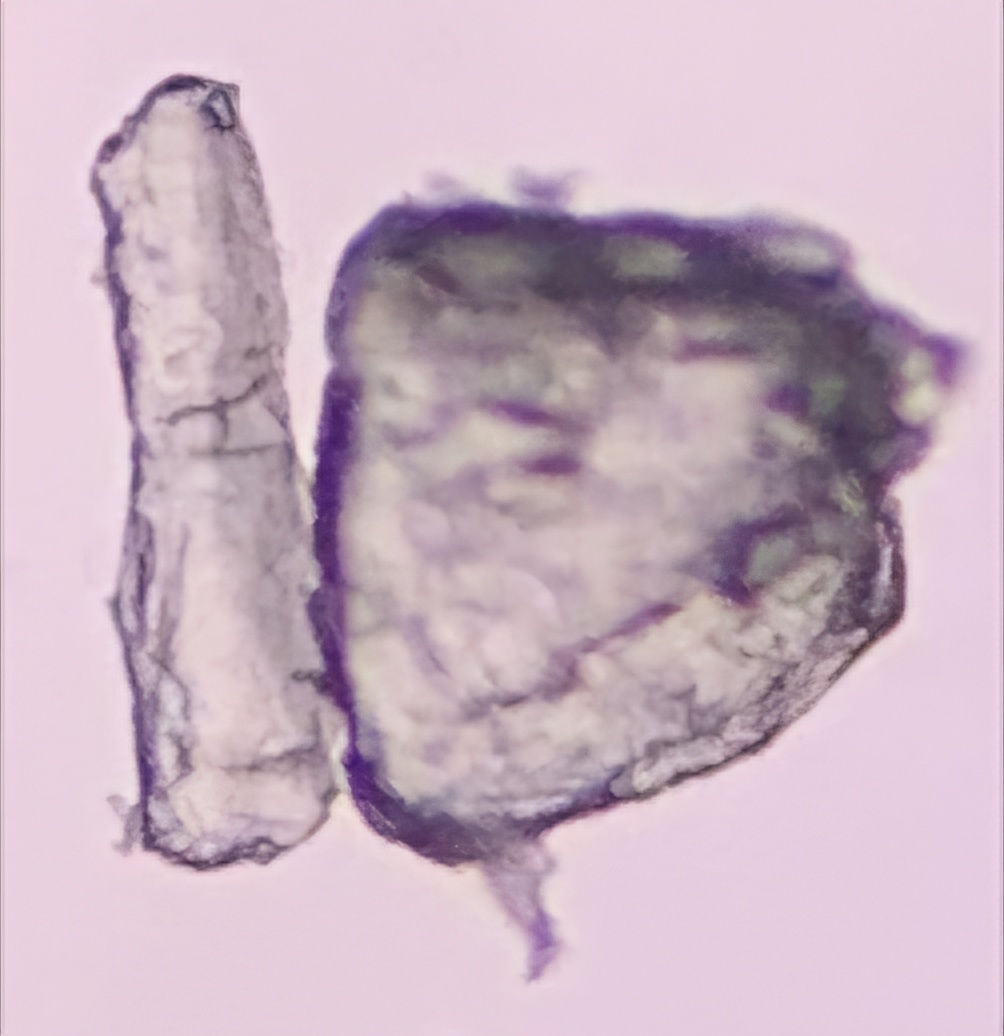microplastic: (80, 63, 990, 999)
